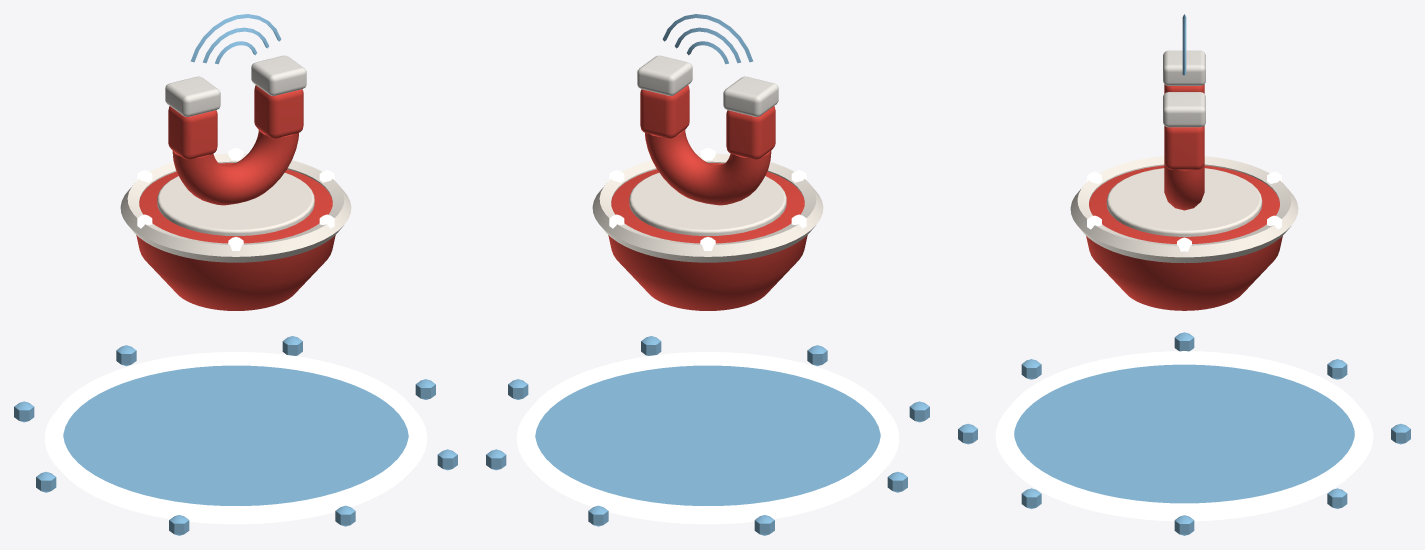
Rendered from pu_magnet.glb.
3 views of the same model, side by side, from view 1: azimuth 30°, elevation 25°; view 2: azimuth 150°, elevation 25°; view 3: azimuth 270°, elevation 25° (orthographic).
Parts seen in each view (by area): view 1: pu_magnet, capsule; view 2: pu_magnet, capsule; view 3: pu_magnet, capsule.
Part boxes in pixels (left/top/right/bottom): pu_magnet: left=14, top=336, right=457, bottom=535; capsule: left=120, top=14, right=351, bottom=310; pu_magnet: left=486, top=336, right=929, bottom=535; capsule: left=592, top=14, right=823, bottom=310; pu_magnet: left=958, top=332, right=1410, bottom=535; capsule: left=1070, top=14, right=1298, bottom=310.
Size of the model in its own units: 1.56 by 1.63 by 1.57.
Materials: 1 (1 with a texture image).
